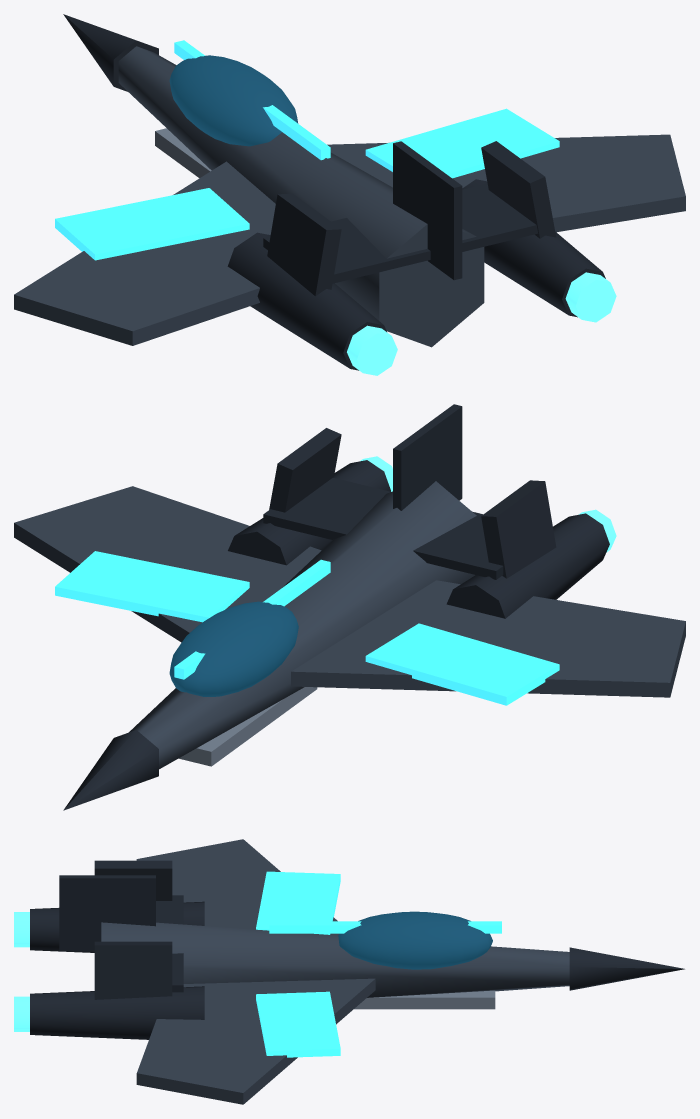
Rendered from skylance.glb.
3 renders of one model, top to bottom at view 1: azimuth 30°, elevation 25°; view 2: azimuth 150°, elevation 25°; view 3: azimuth 270°, elevation 25°, orthographic. The views are drawn at different scales.
Parts seen in each view (by area): view 1: fuselage, wing_left, wing_right, Skylance_Placeholder, wing_stripe_l, canopy, nacelle_-1, wing_stripe_r, tail, dorsal_fin, nacelle_1, nose (+4 smaller); view 2: wing_left, fuselage, wing_right, wing_stripe_l, Skylance_Placeholder, canopy, wing_stripe_r, tail, nacelle_-1, dorsal_fin, nacelle_1, nose (+2 smaller); view 3: fuselage, wing_right, wing_left, canopy, nacelle_1, Skylance_Placeholder, dorsal_fin, wing_stripe_r, wing_stripe_l, nose, belly, nacelle_-1 (+4 smaller).
Boxes of the visible parts, left/top/right/bottom form: fuselage: left=118, top=46, right=484, bottom=347; wing_left: left=14, top=161, right=275, bottom=345; wing_right: left=327, top=134, right=685, bottom=232; Skylance_Placeholder: left=267, top=141, right=556, bottom=296; wing_stripe_l: left=55, top=188, right=249, bottom=260; canopy: left=169, top=55, right=298, bottom=146; nacelle_-1: left=227, top=232, right=386, bottom=370; wing_stripe_r: left=365, top=108, right=559, bottom=178; tail: left=263, top=183, right=538, bottom=283; dorsal_fin: left=393, top=141, right=462, bottom=280; nacelle_1: left=462, top=179, right=605, bottom=317; nose: left=63, top=14, right=158, bottom=91; wing_left: left=291, top=580, right=685, bottom=697; fuselage: left=129, top=481, right=476, bottom=769; wing_right: left=14, top=486, right=321, bottom=642; wing_stripe_l: left=365, top=623, right=559, bottom=705; Skylance_Placeholder: left=269, top=428, right=556, bottom=578; canopy: left=169, top=601, right=298, bottom=696; wing_stripe_r: left=55, top=551, right=249, bottom=622; tail: left=263, top=477, right=503, bottom=579; nacelle_-1: left=446, top=513, right=609, bottom=618; dorsal_fin: left=393, top=404, right=462, bottom=510; nacelle_1: left=228, top=460, right=390, bottom=565; nose: left=63, top=730, right=158, bottom=810; fuselage: left=101, top=922, right=569, bottom=997; wing_right: left=136, top=978, right=375, bottom=1104; wing_left: left=136, top=839, right=338, bottom=935; canopy: left=338, top=911, right=492, bottom=969; nacelle_1: left=30, top=986, right=204, bottom=1039; Skylance_Placeholder: left=94, top=860, right=172, bottom=999; dorsal_fin: left=59, top=875, right=155, bottom=951; wing_stripe_r: left=256, top=991, right=340, bottom=1057; wing_stripe_l: left=256, top=871, right=340, bottom=934; nose: left=569, top=947, right=684, bottom=990; belly: left=354, top=990, right=495, bottom=1009; nacelle_-1: left=30, top=901, right=204, bottom=952.
Size of the model in its own units: 9.3 by 2.44 by 10.4.
